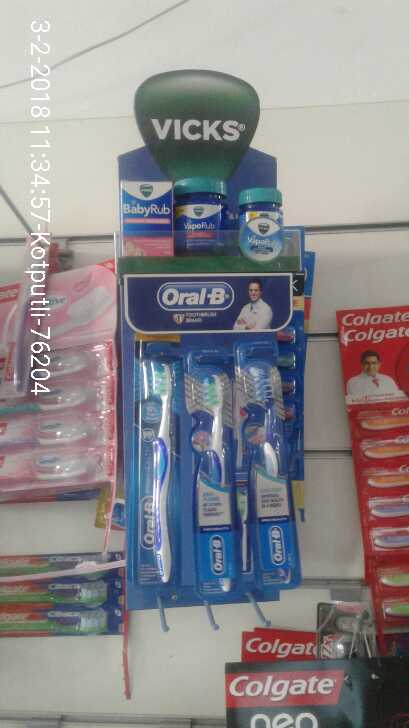pharmacy: (239, 335, 303, 589), (184, 342, 239, 590), (126, 334, 179, 588), (117, 176, 175, 261), (175, 176, 230, 251)
